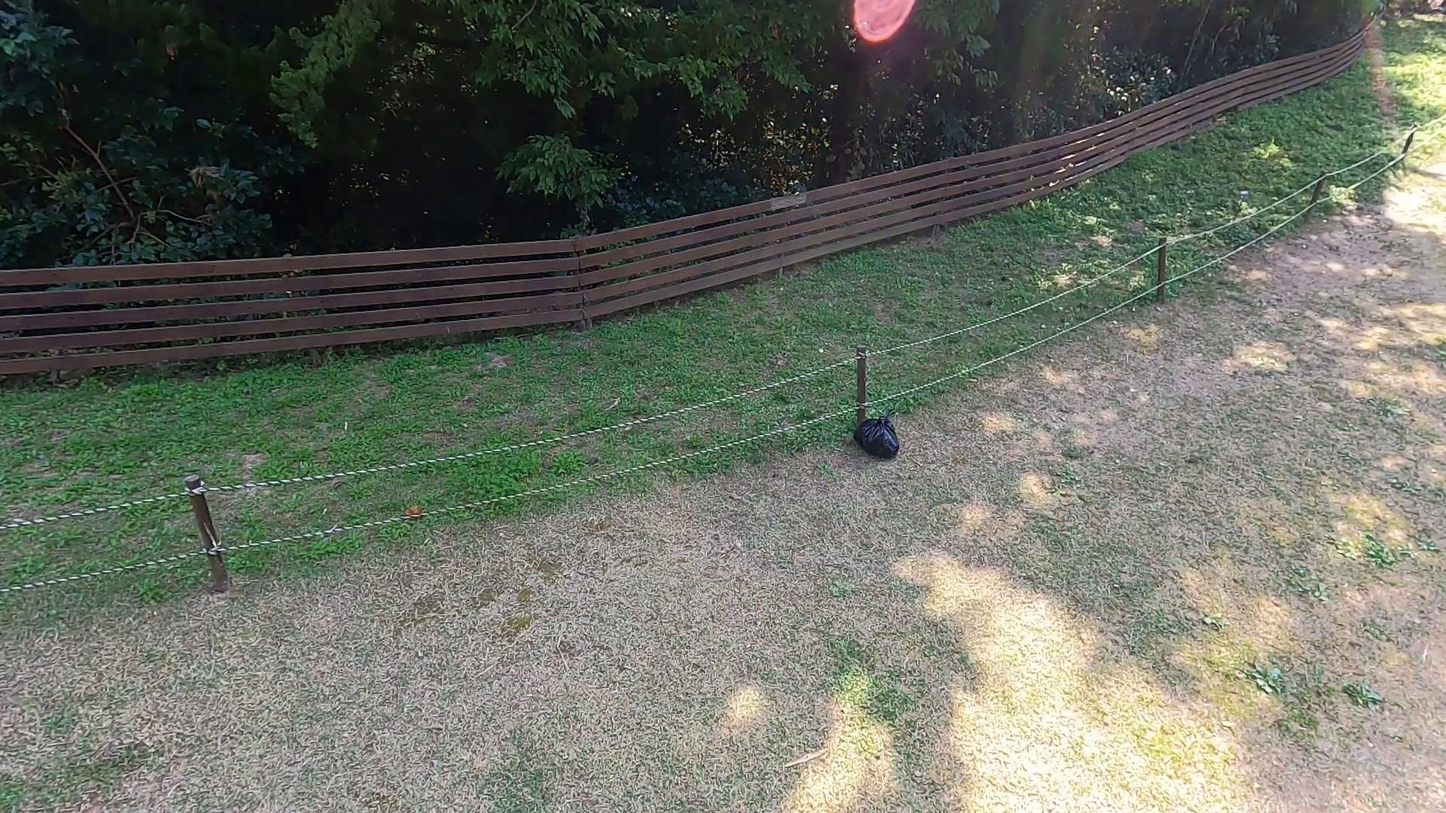trash: (856, 409, 902, 464)
